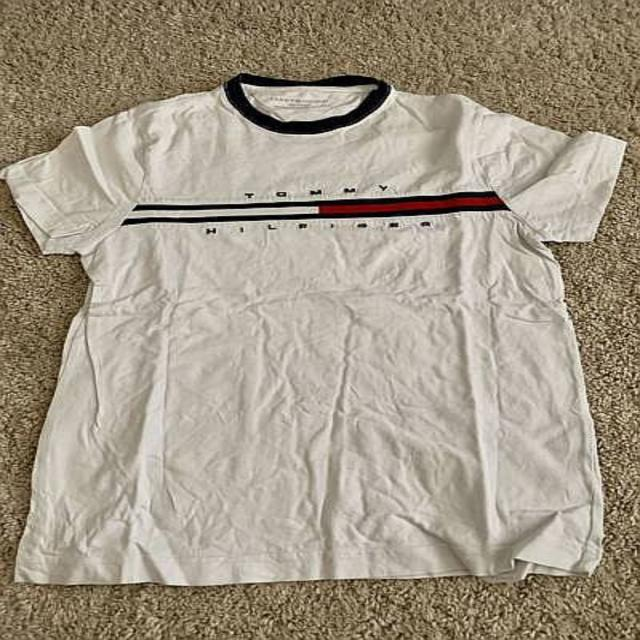T_SHIRT: (7, 67, 629, 592)
